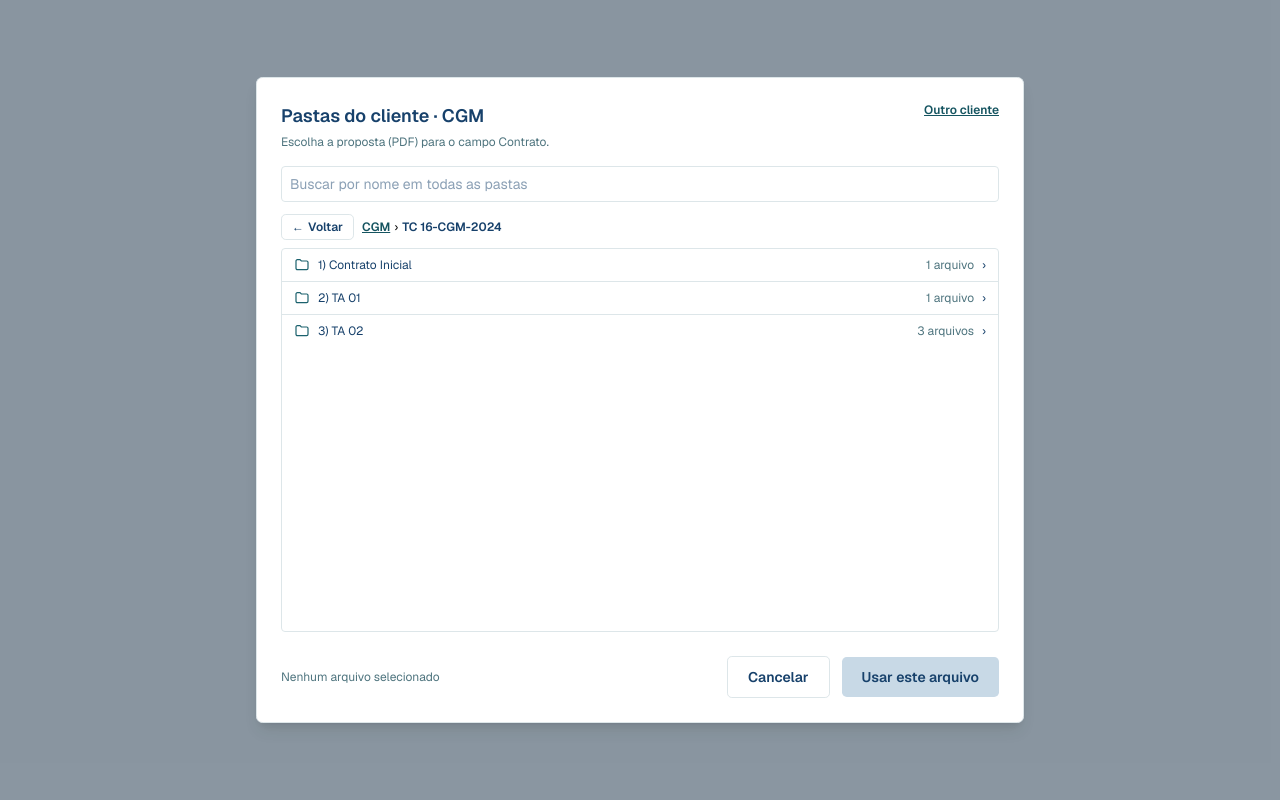
Scenario: cada pasta diz quantos arquivos tem, contando as de dentro
Expected: the button "3) TA 02 3 arquivos ›" is shown, x1=282 y1=315 x2=998 y2=347
Expected: the button "1) Contrato Inicial 1 arquivo ›" is shown, x1=282 y1=249 x2=998 y2=281
Click the button "CGM" at (376, 227), box x1=362 y1=219 x2=390 y2=235
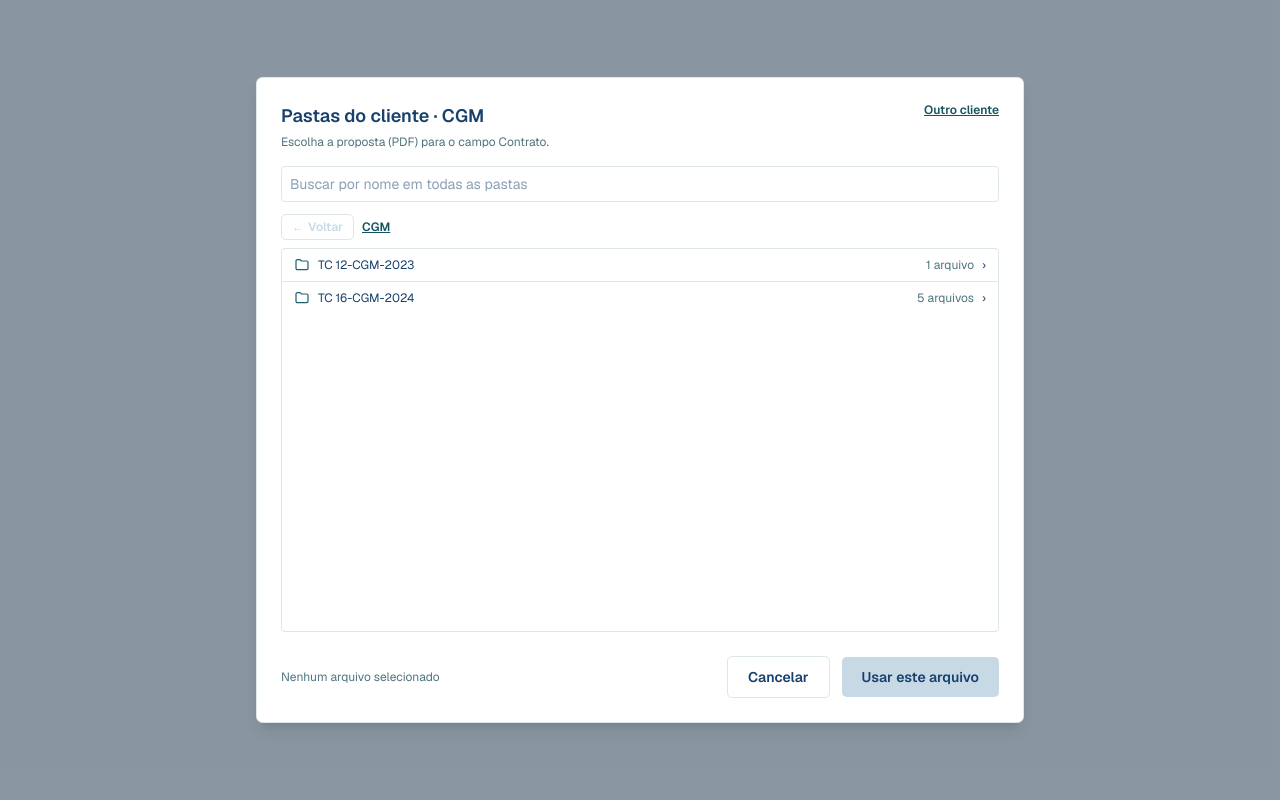
Expected: the button "TC 16-CGM-2024 5 arquivos ›" is shown, x1=282 y1=282 x2=998 y2=314
